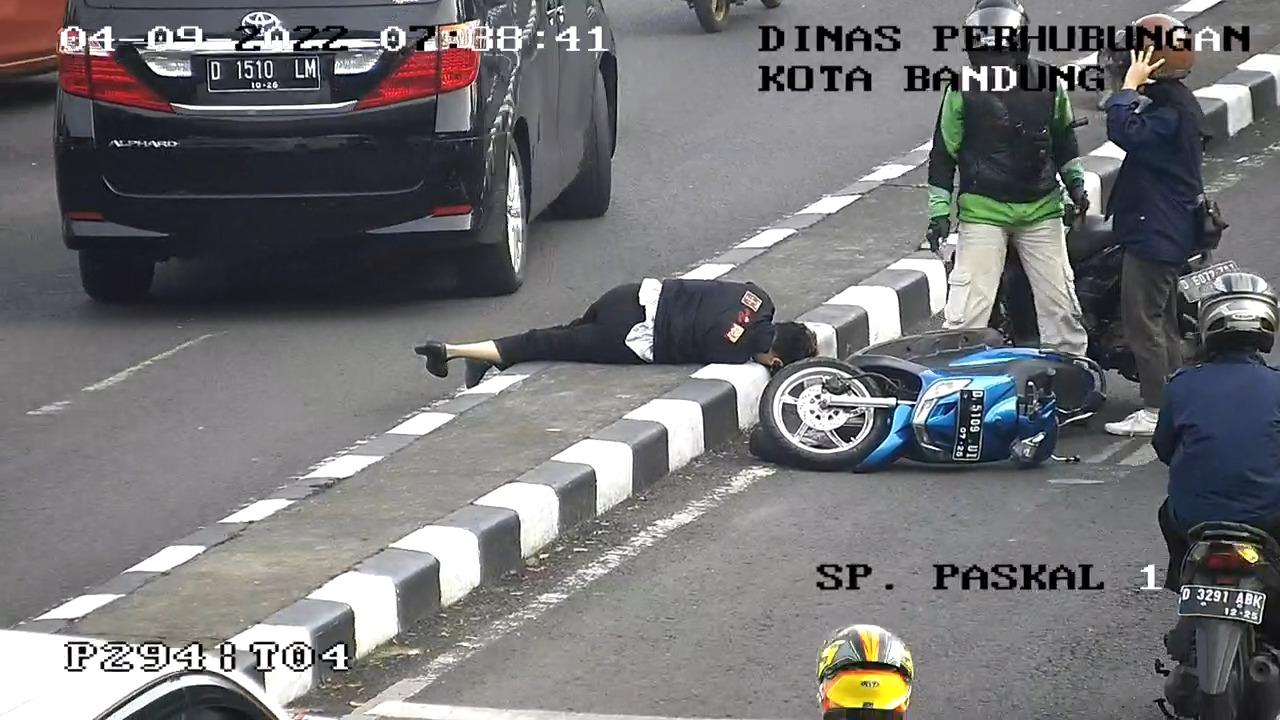accident: (392, 265, 829, 406)
